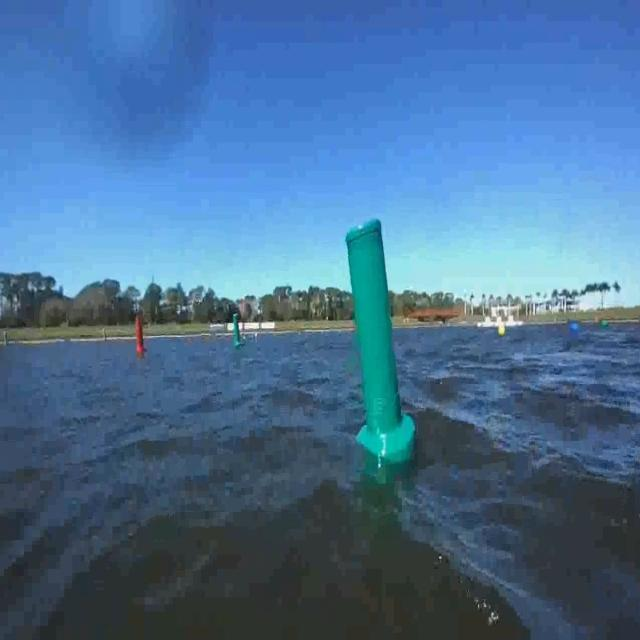blue-buoy: (568, 319, 580, 338)
green-buoy: (600, 318, 608, 330)
green-column-buoy: (344, 216, 414, 467), (233, 313, 244, 347)
red-column-buoy: (135, 316, 147, 352)
yellow-buoy: (497, 323, 506, 338)
